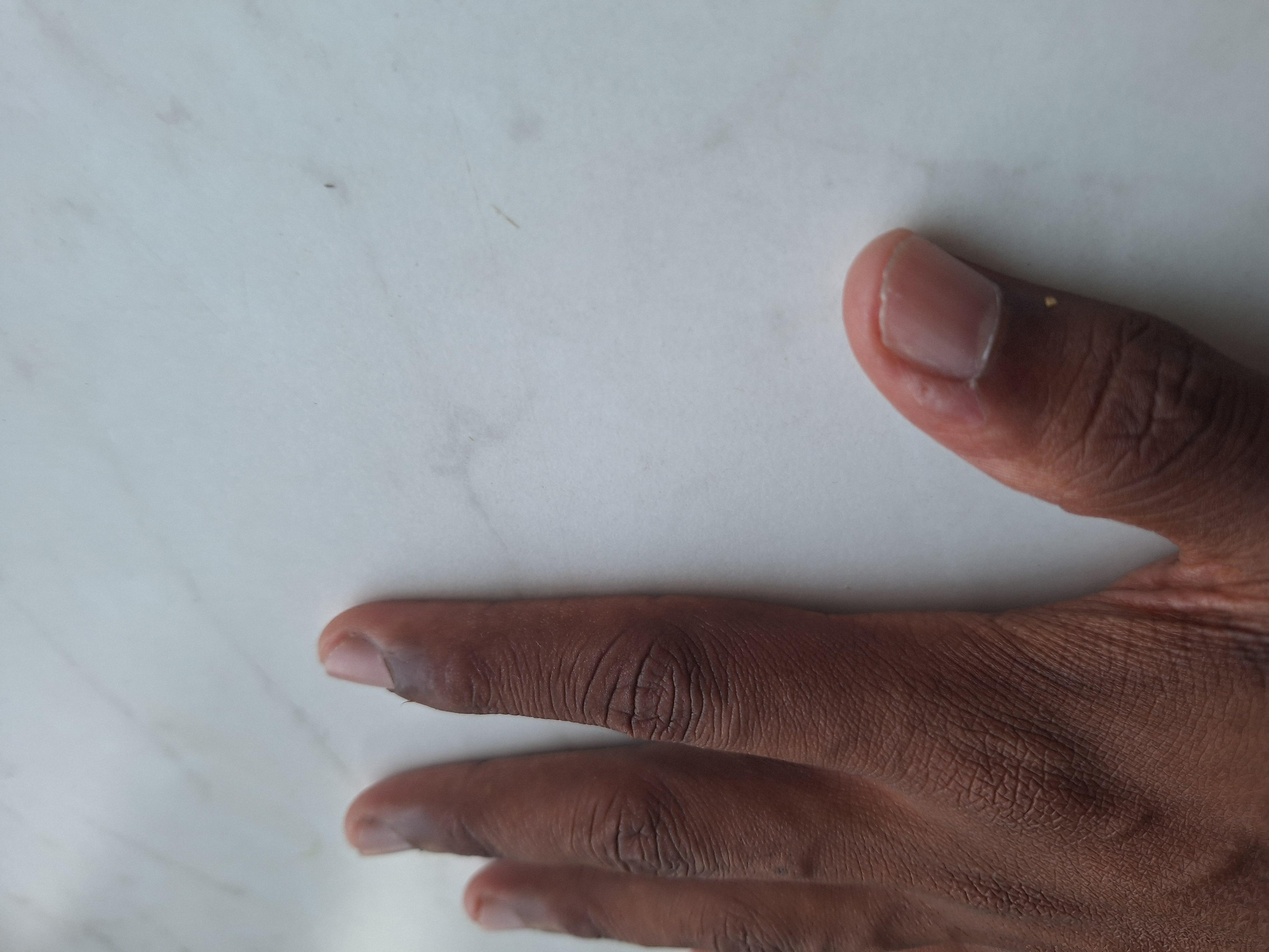Fingernail: (881, 236, 1002, 383), (327, 637, 394, 690), (358, 818, 416, 857), (480, 901, 524, 930)
